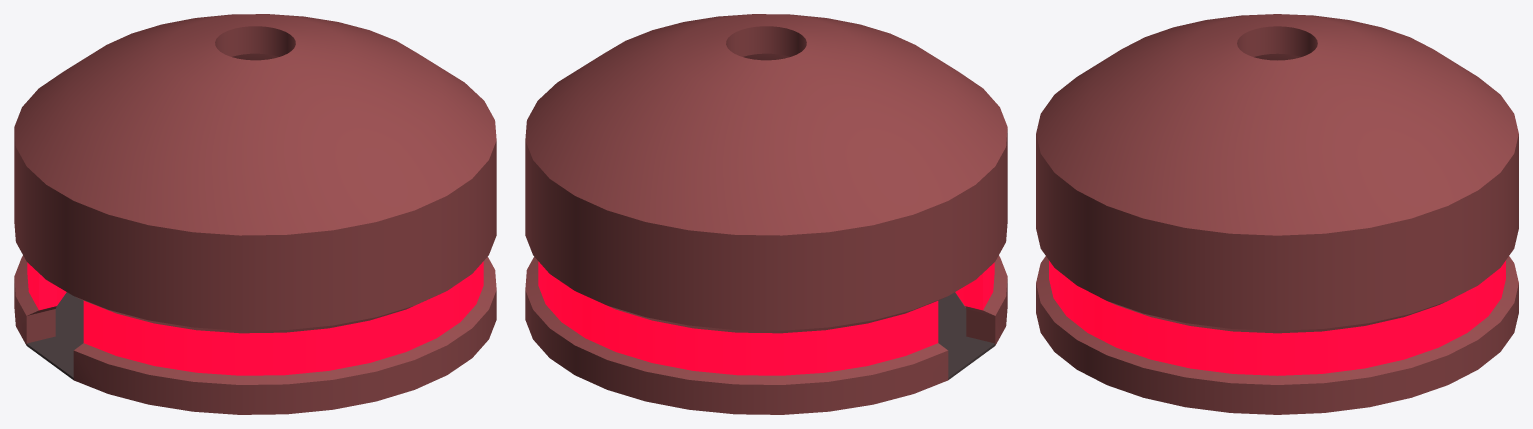
Rendered from Tower2.fbx.
3 views of the same model, side by side, from view 1: azimuth 30°, elevation 25°; view 2: azimuth 150°, elevation 25°; view 3: azimuth 270°, elevation 25° (orthographic).
Parts seen in each view (by area): view 1: Tower2; view 2: Tower2; view 3: Tower2.
Boxes of the visible parts, x1,y1,x2,y2 form: Tower2: (14,14,496,414); Tower2: (525,14,1007,414); Tower2: (1036,14,1518,414).
Bounding box in the file's own units: 3265 × 2011 × 3266.
